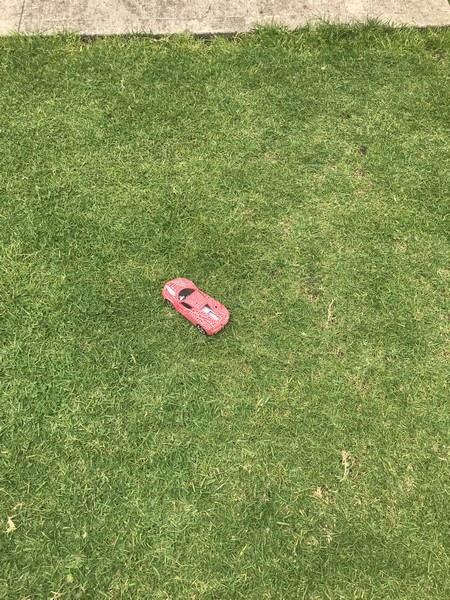RC: (160, 276, 230, 338)
